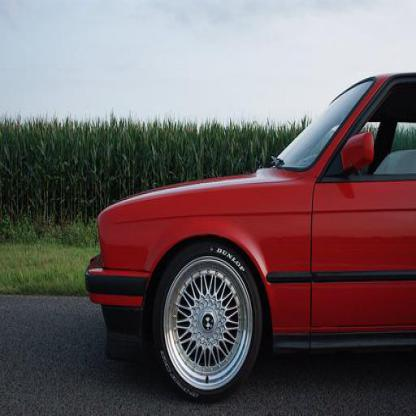Tire: (152, 239, 264, 402)
